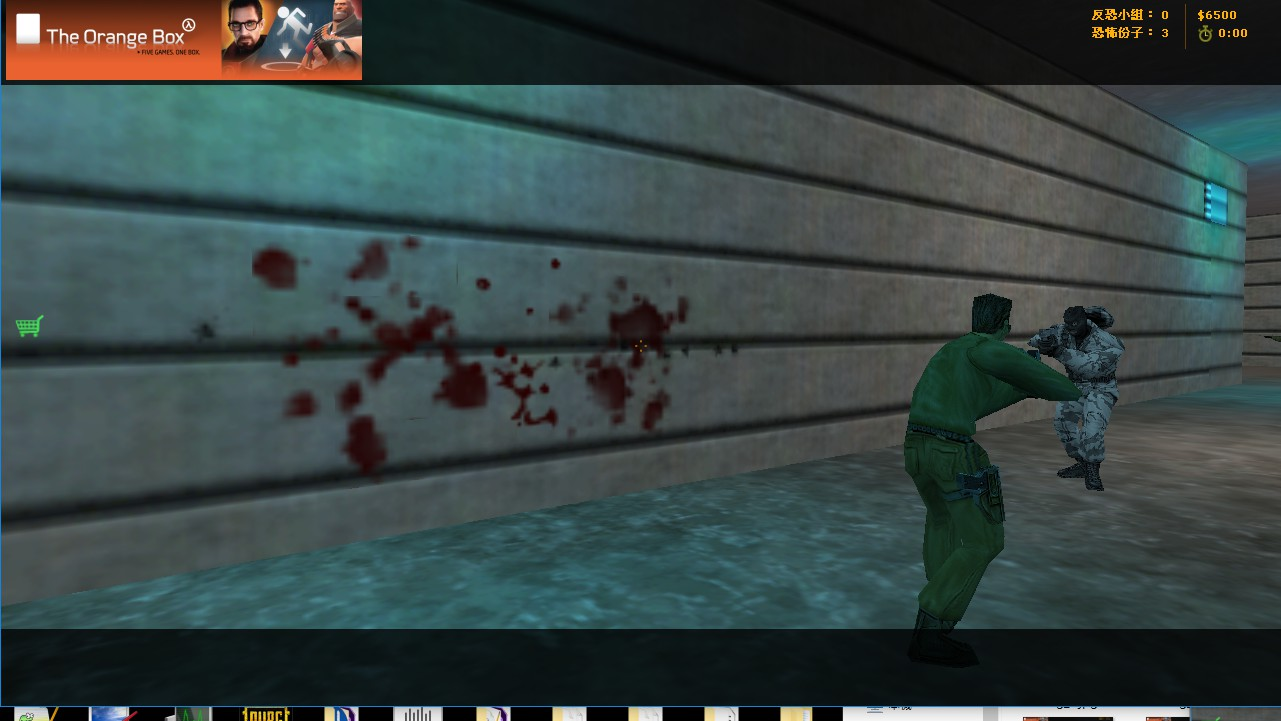person: (896, 278, 1044, 629), (1041, 298, 1127, 490)
